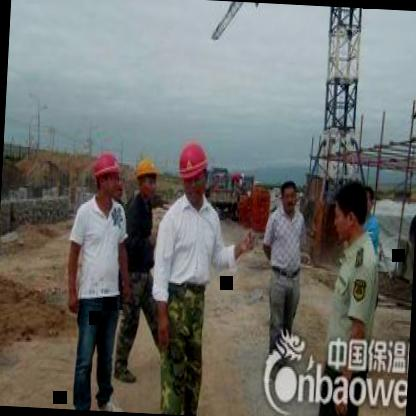helmet: (176, 141, 210, 204), (91, 150, 120, 200), (134, 156, 158, 196)
